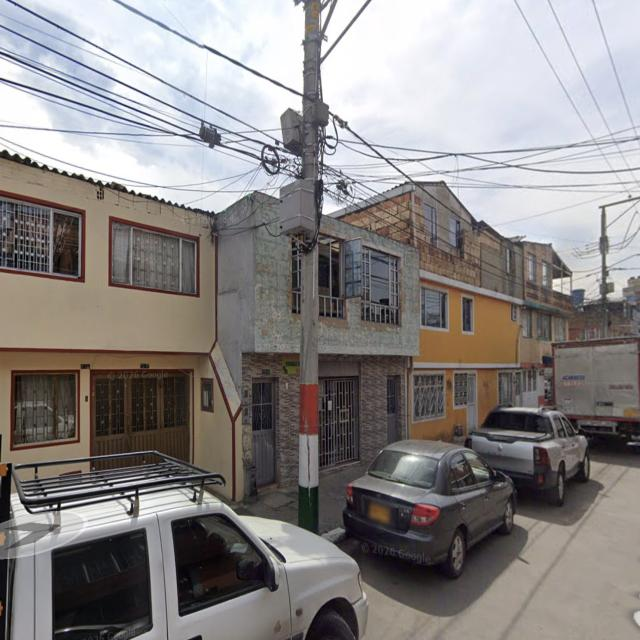Casa: (0, 153, 242, 491), (332, 183, 522, 439), (313, 218, 420, 468), (214, 191, 302, 493)
Poste: (298, 0, 323, 533)
